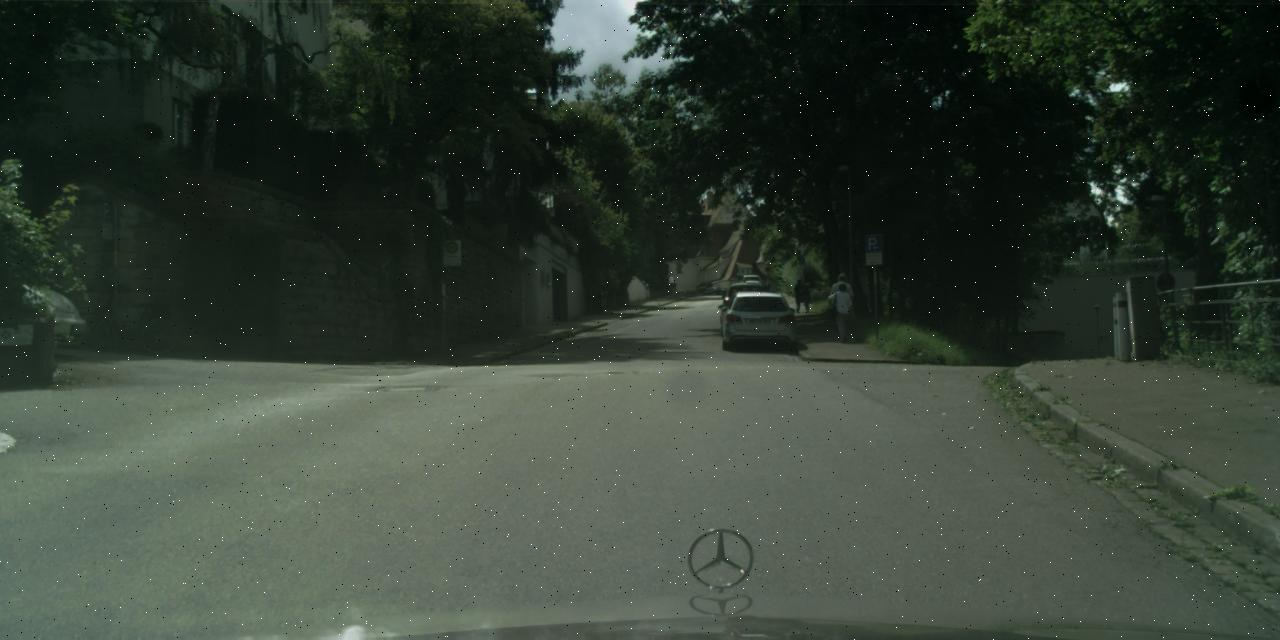ped: (830, 282, 854, 342), (831, 273, 851, 324), (791, 280, 804, 312)
